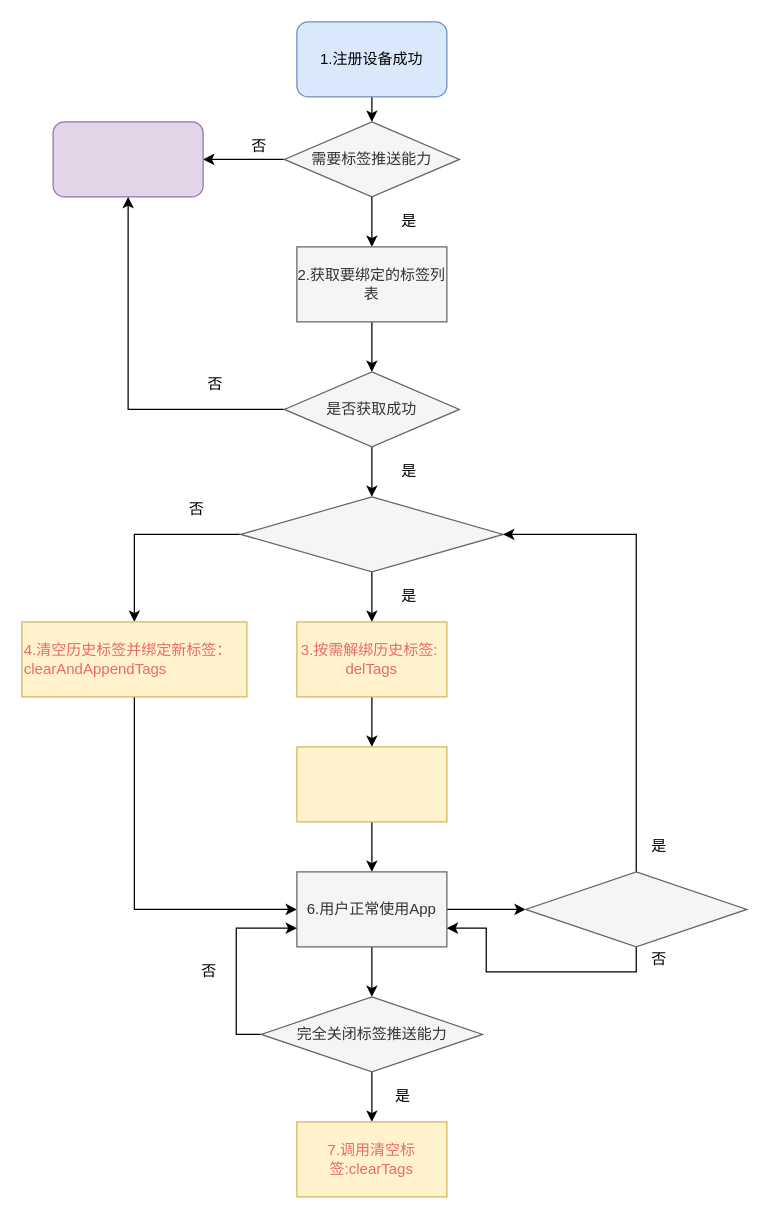
Some shapes in this 769 by 1219 pixel diagram are drawn without their labels. Here are the shapes that lost their labels. From the top down, the box of each, then its label:
(52, 121, 203, 197): 流程结束
(239, 496, 503, 572): 历史绑定的标签需要关心推送
(296, 746, 447, 822): 5.绑定新标签列表： 调用appendTag s
(524, 871, 747, 947): 需要变更绑定的标签列表
